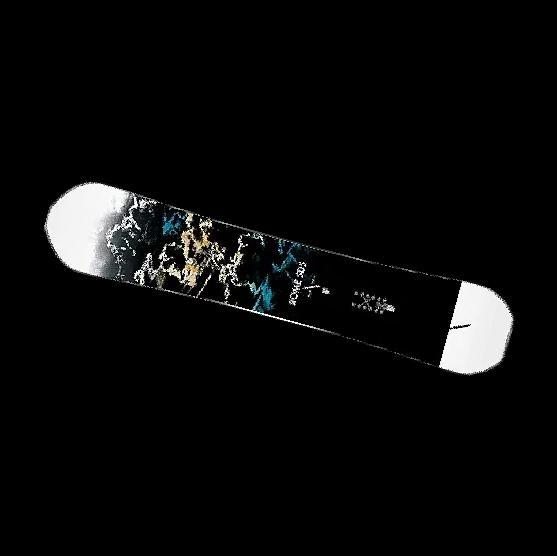Snowboard: (43, 180, 514, 376)
